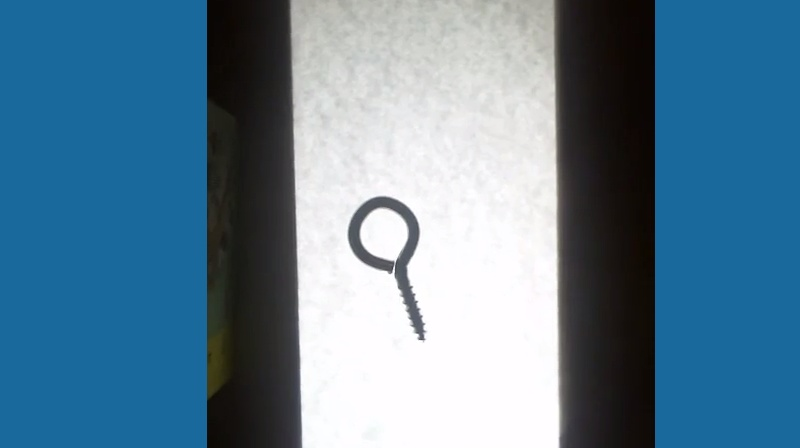O001: (344, 191, 429, 345)
